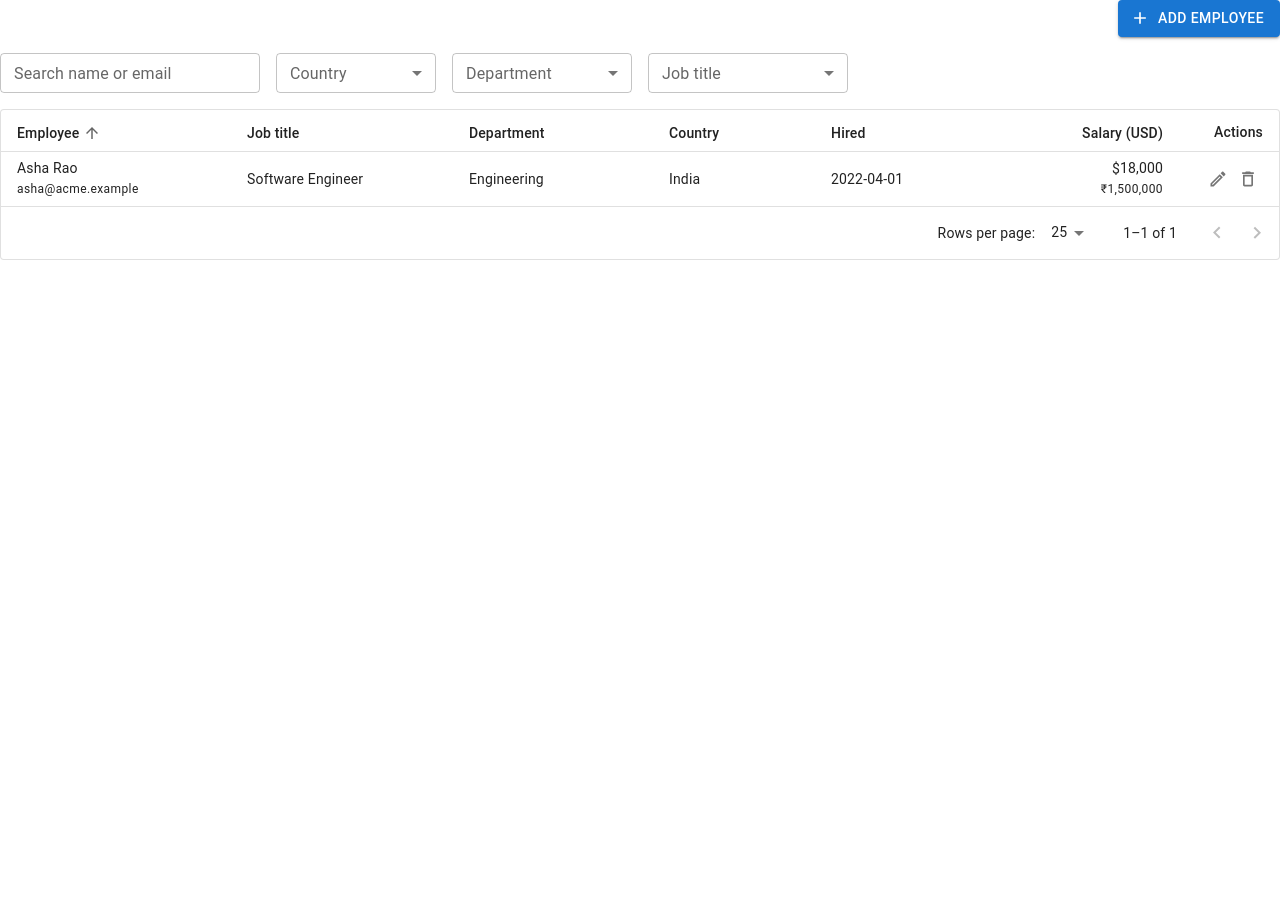
Scenario: employee create / edit / delete › edits an employee with a PUT and refreshes the table
The image size is (1280, 900).
Click the button named "Edit Asha Rao" at (1218,179), box [1203,164,1233,194]
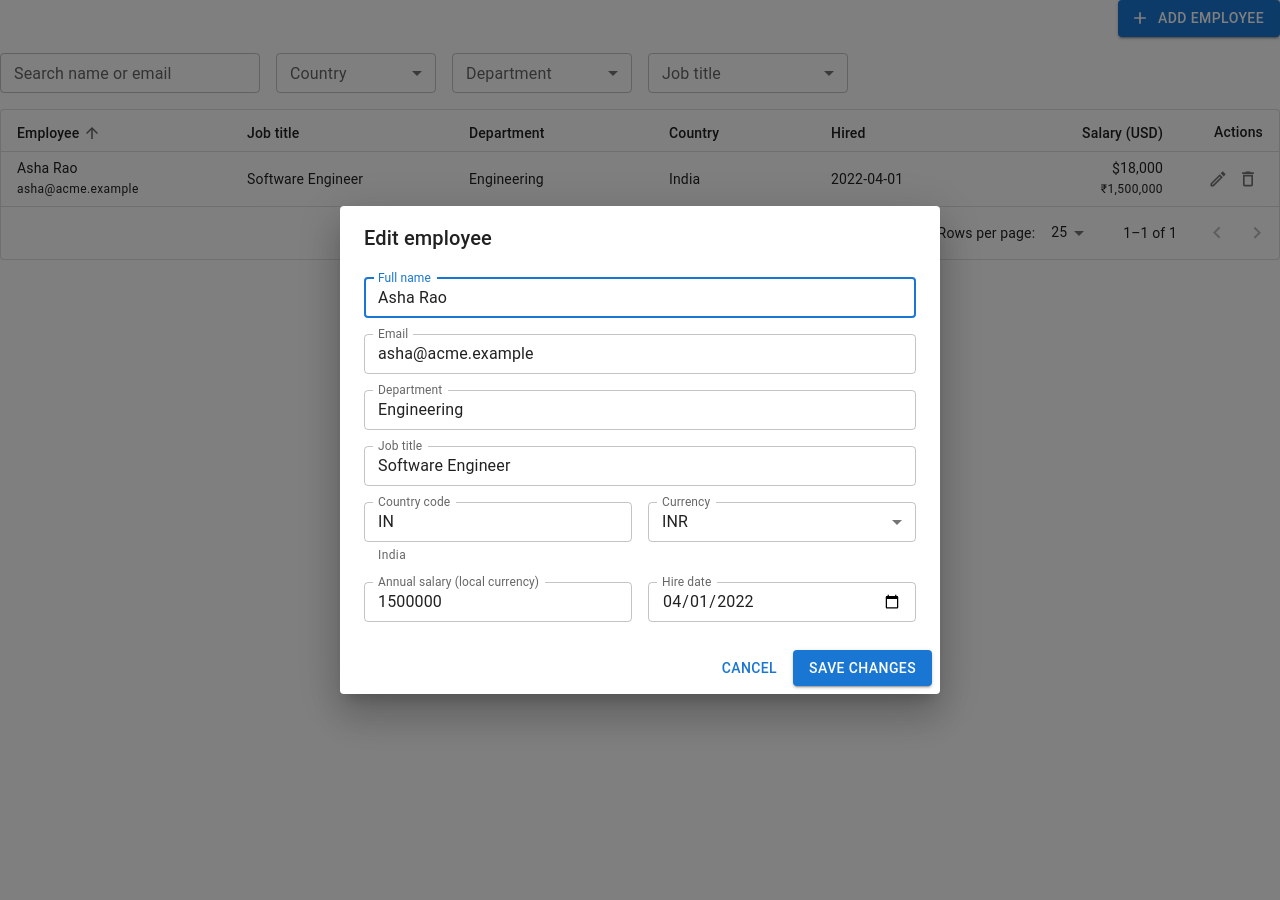
Clear the dropdown labelled "Job title" at (624,466), box [370,452,877,480]
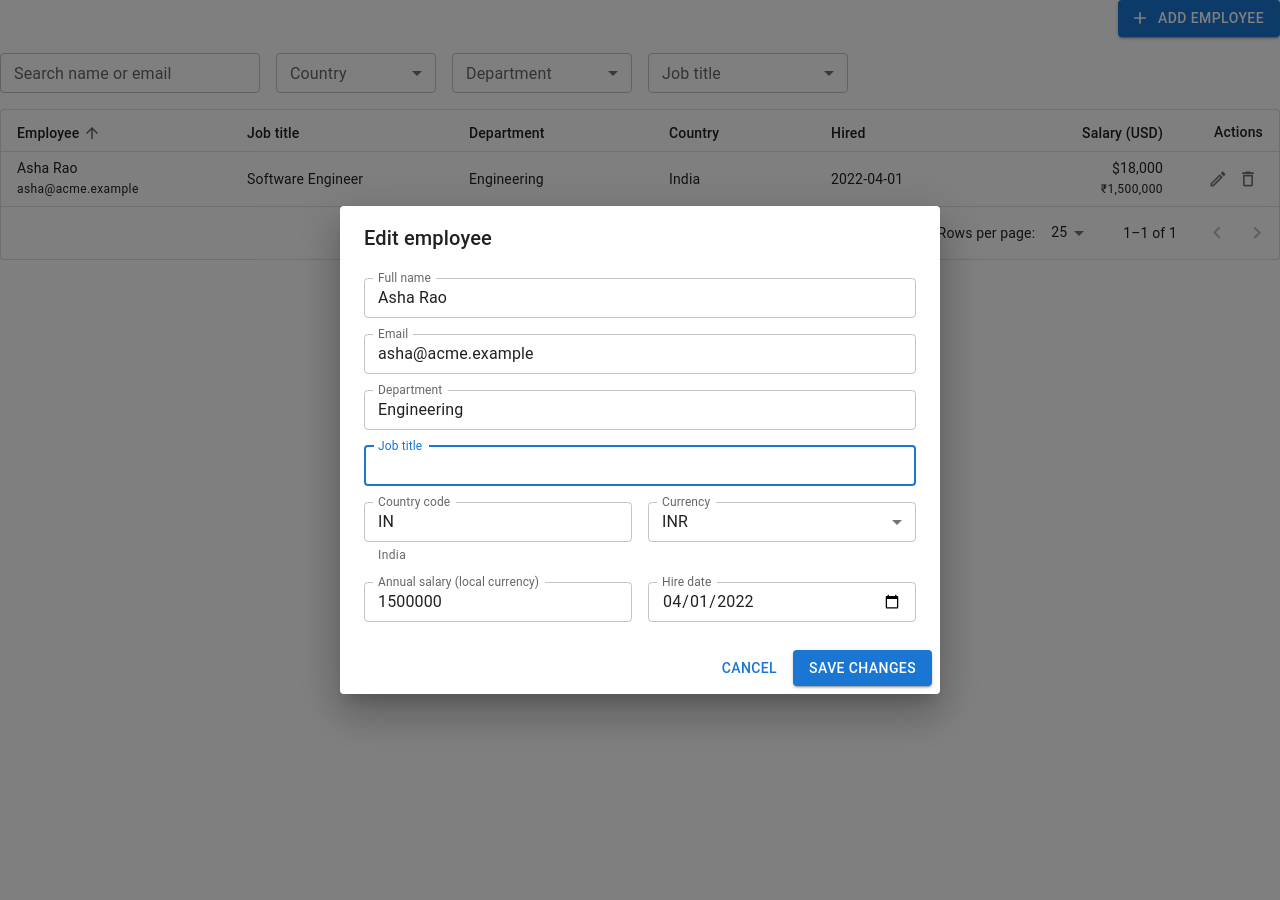
Type "Staff Engineer" into the dropdown labelled "Job title" at (638,466), box [370,452,907,480]
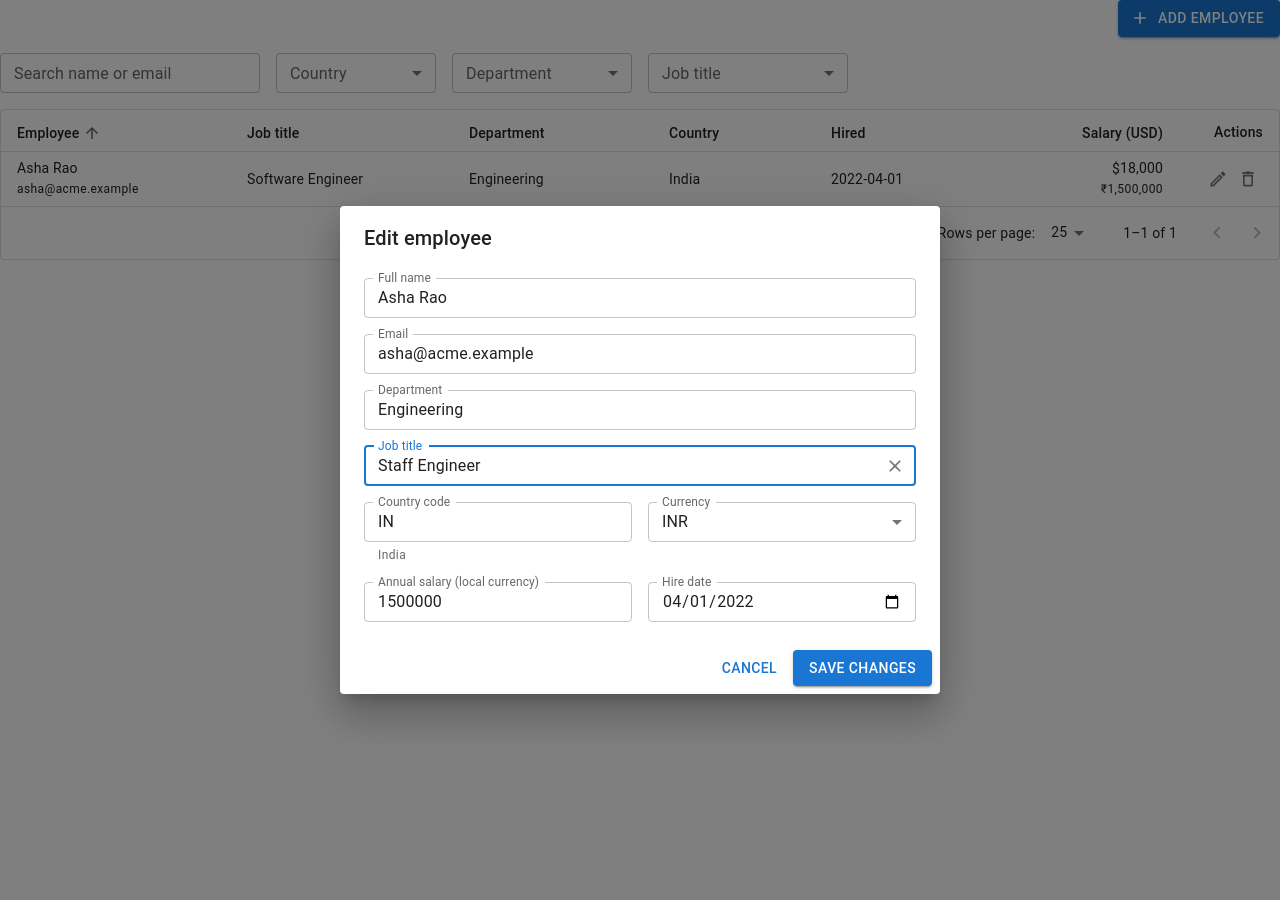
Click the button "Save changes" at (863,668), box [793,650,932,686]
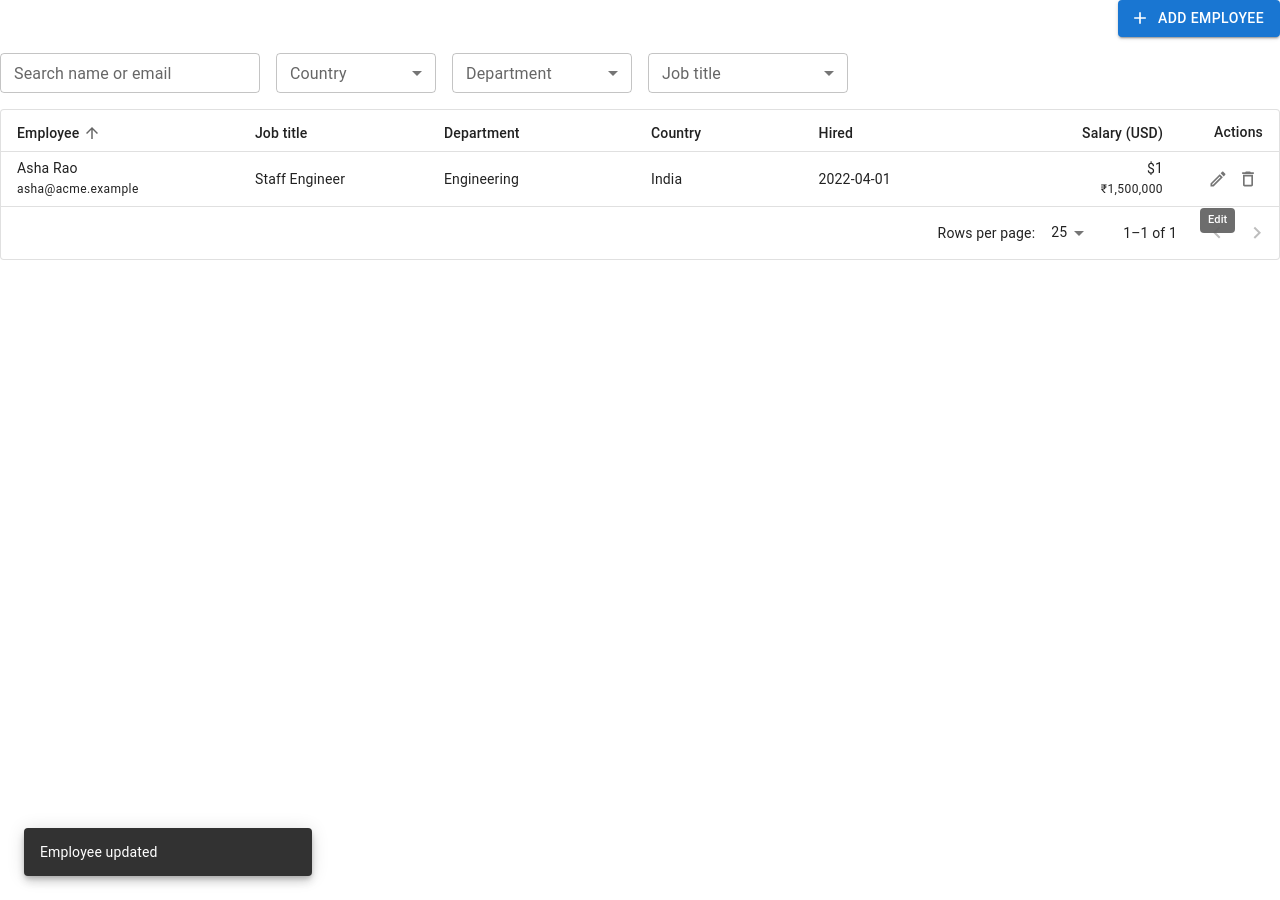
Result: the text "Employee updated" is shown at [40,844,158,860]
Result: the text "Staff Engineer" is shown at [239,151,428,206]
